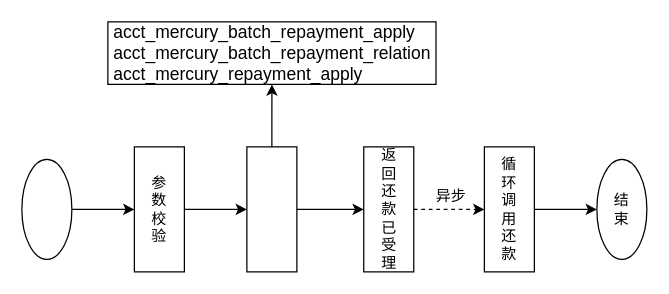
Some shapes in this 669 by 294 pixel diagram are drawn without their labels. The centre of each missing label's shape, as x and y in pixels:
"事 务 入 库" goes at point (271, 209).
"开 始" goes at point (46, 208).
